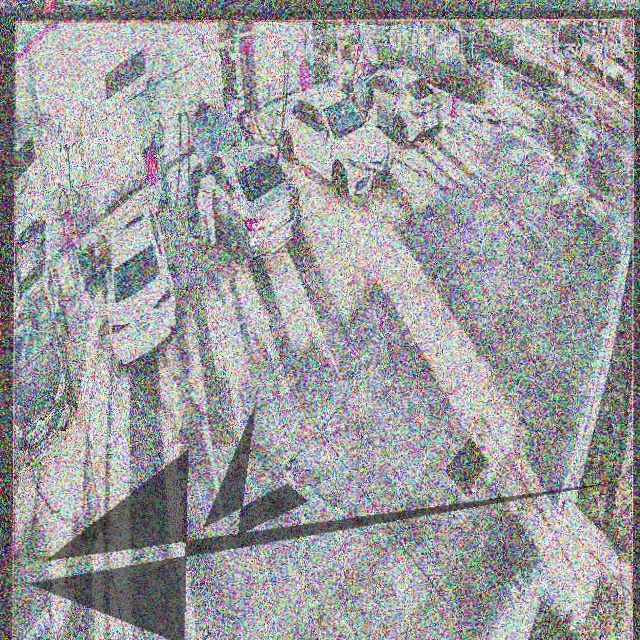Car: (188, 112, 302, 266), (77, 202, 176, 369), (276, 89, 392, 194), (341, 63, 447, 141)
